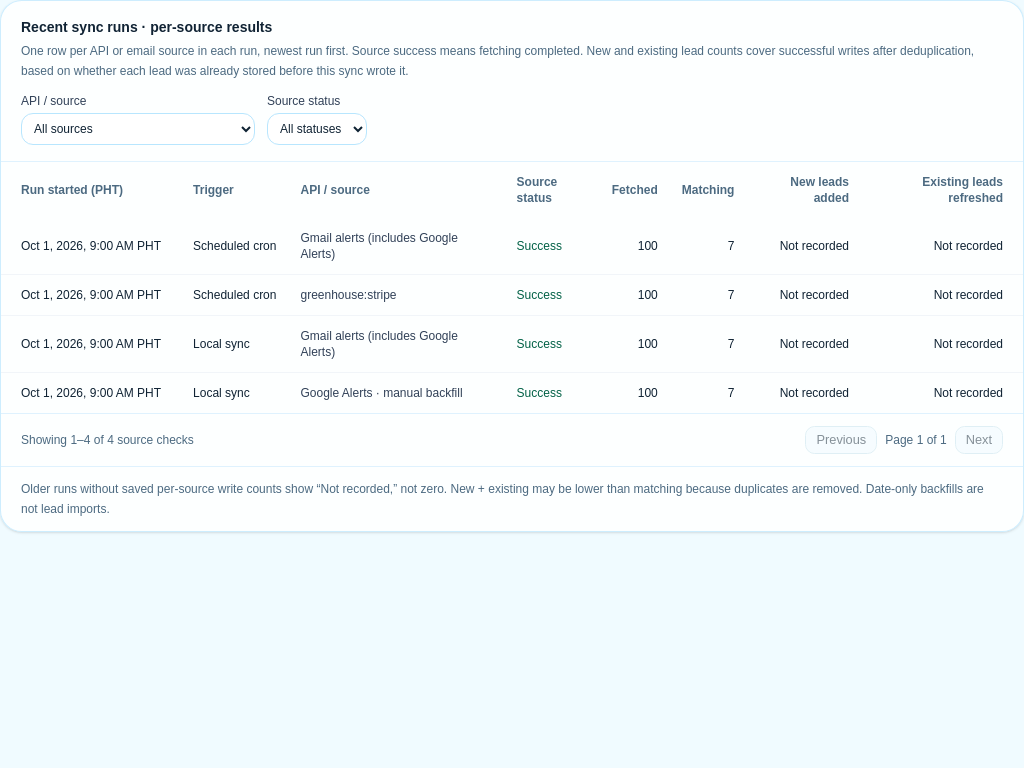
Test: per-source sync history › filters one source across cron and local runs without inventing Google counts
Step 1. Select "Gmail alerts (includes Google Alerts)" in the dropdown labelled "API / source" → (138, 129), box [21, 113, 255, 145]
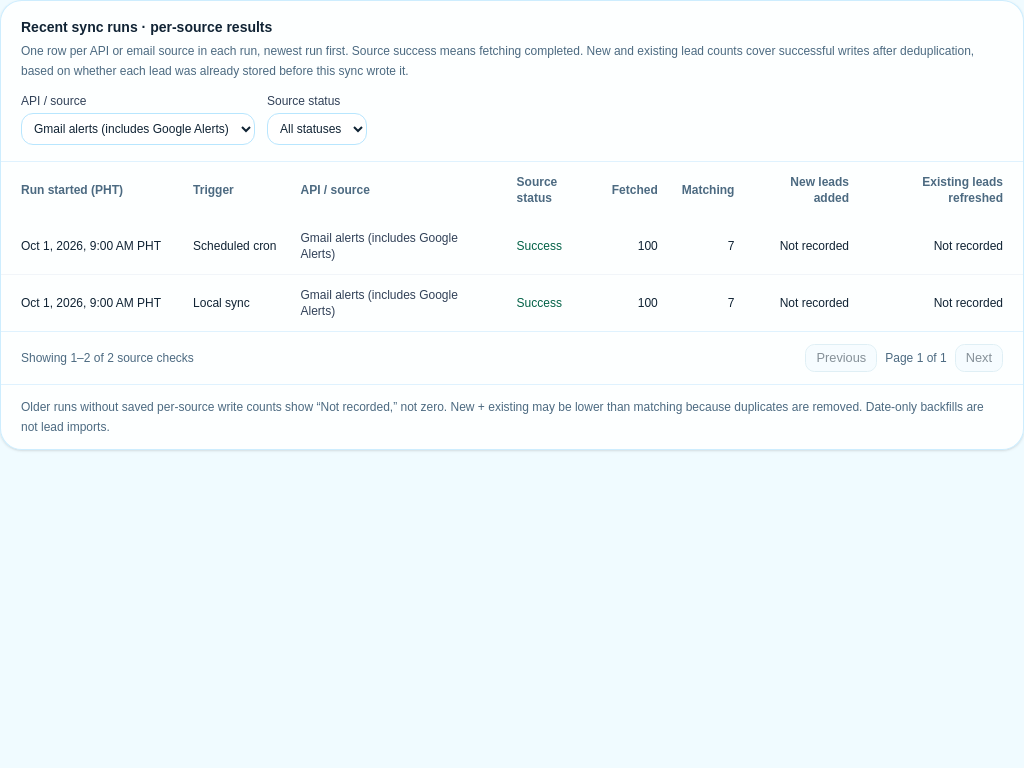
Expected: the 2nd row shows "Scheduled cron", [193, 239, 276, 253]
Now the text "Google Alerts · manual backfill" is gone
